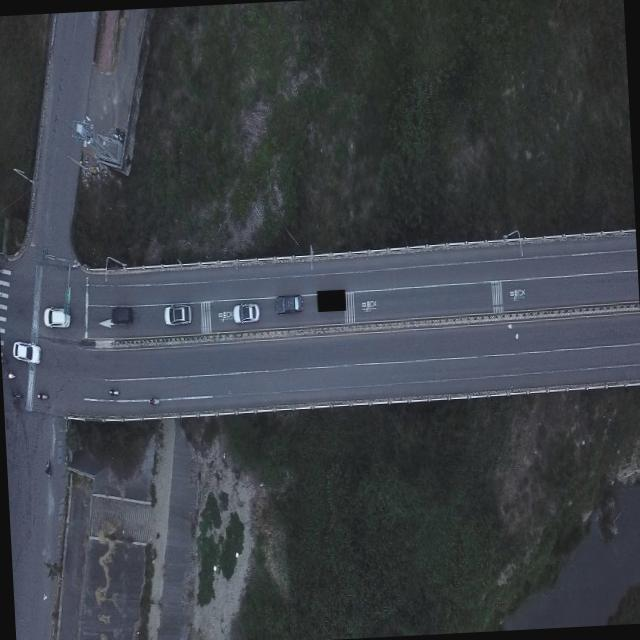bike: (44, 458, 54, 482), (4, 367, 16, 382), (35, 391, 49, 400), (108, 386, 120, 396), (150, 396, 160, 405)
car: (12, 340, 42, 366), (42, 306, 70, 330), (272, 296, 304, 316), (163, 304, 192, 326), (231, 302, 261, 322), (111, 306, 133, 325)
